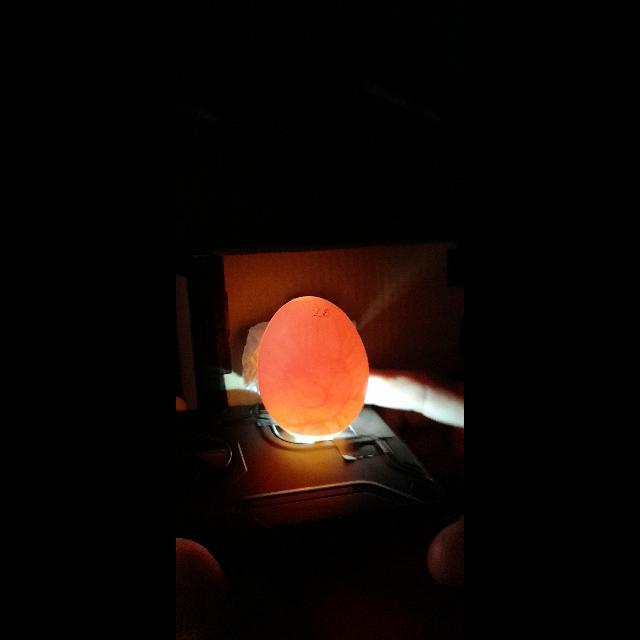Fertile: (254, 292, 368, 440)
